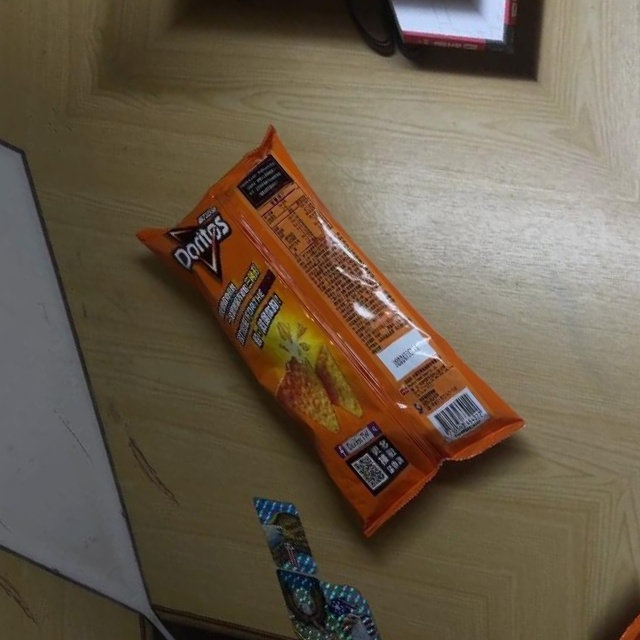Doritos: (119, 115, 531, 553)
